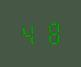eight: (40, 20, 60, 45)
four: (19, 21, 39, 47)
